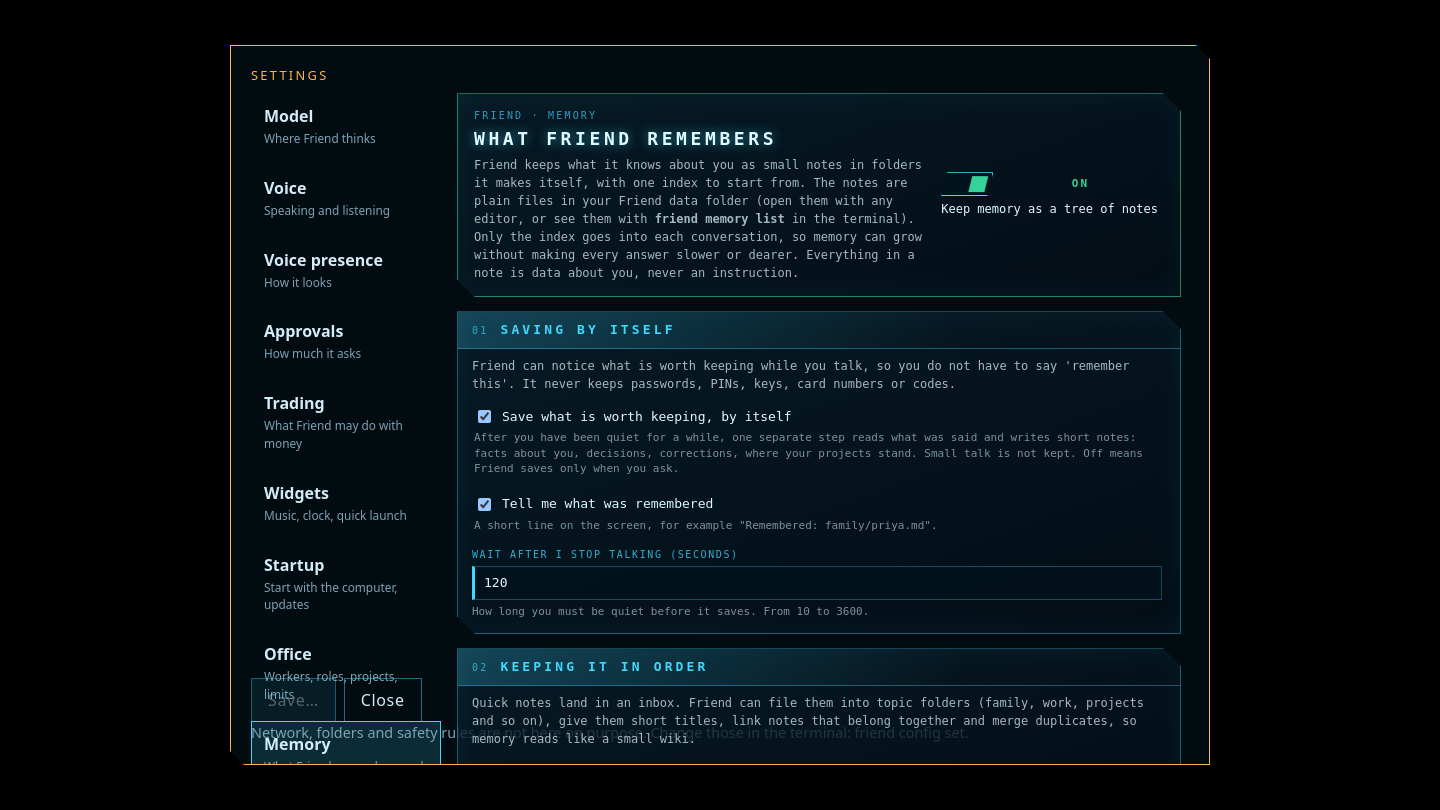
Test case: saving memory settings › cannot be saved with a delay or an index size out of range
Step 1. Replace the text in the number field labelled "Wait after I stop talking" with "5" → (817, 583), box [472,566,1162,600]
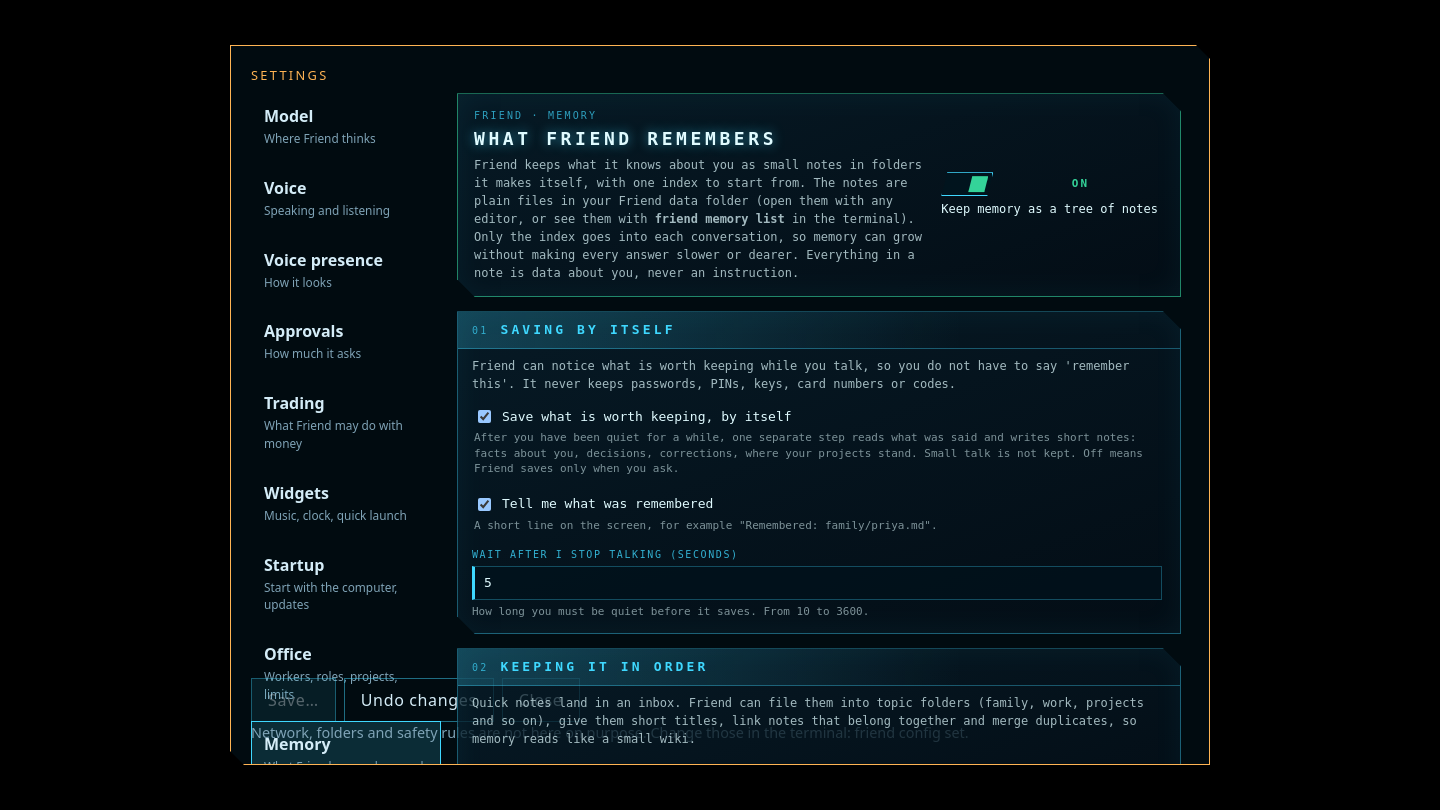
Check: the button "Save…" is disabled, box [251,678,336,722]
Step 2. Replace the text in the number field labelled "Wait after I stop talking" with "60" → (817, 583), box [472,566,1162,600]
(page scrolled)
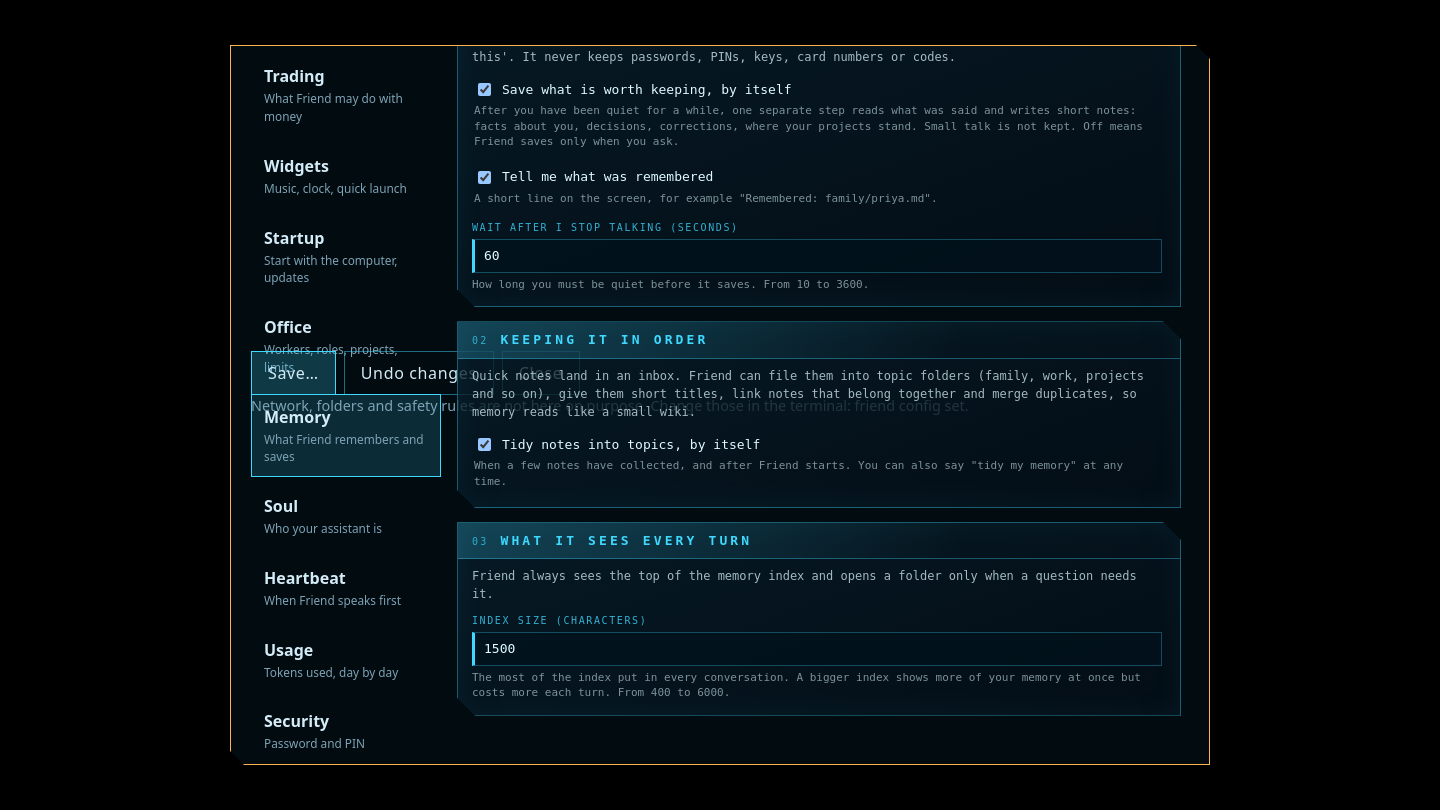
Check: the button "Save…" is enabled, box [251,351,336,395]
Step 3. Replace the text in the number field labelled "Index size" with "9000" → (817, 649), box [472,632,1162,666]
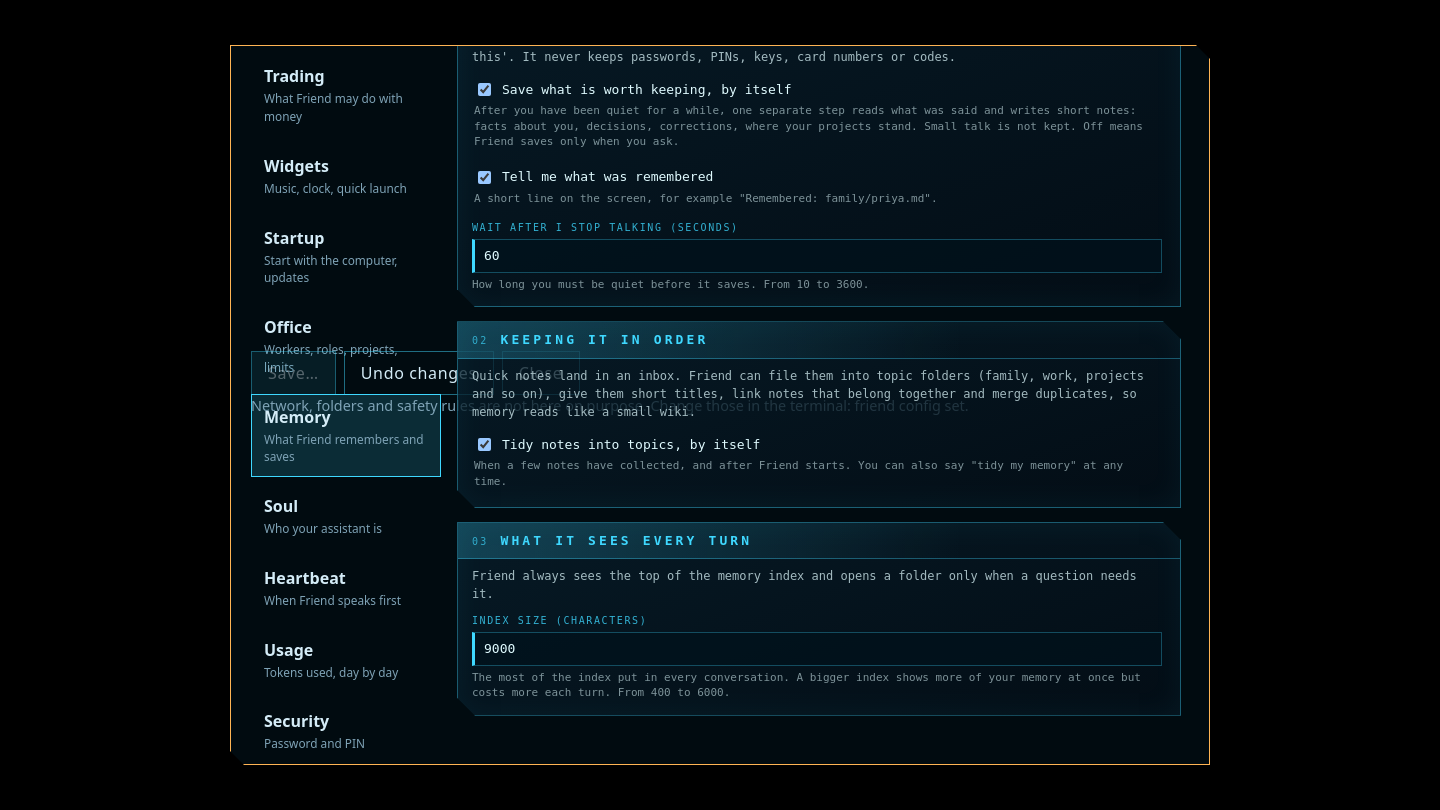
Check: the button "Save…" is disabled, box [251,351,336,395]
